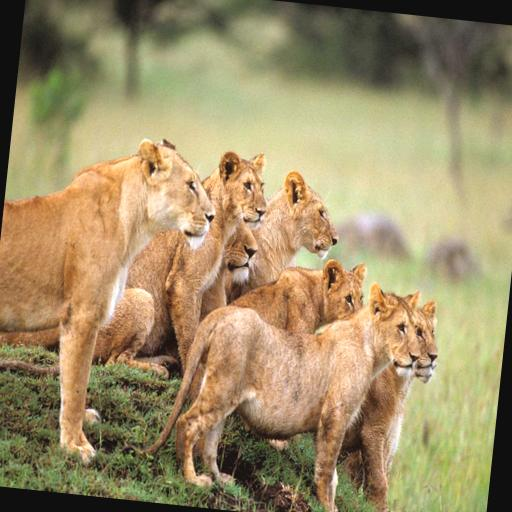lions: (0, 90, 512, 512)
